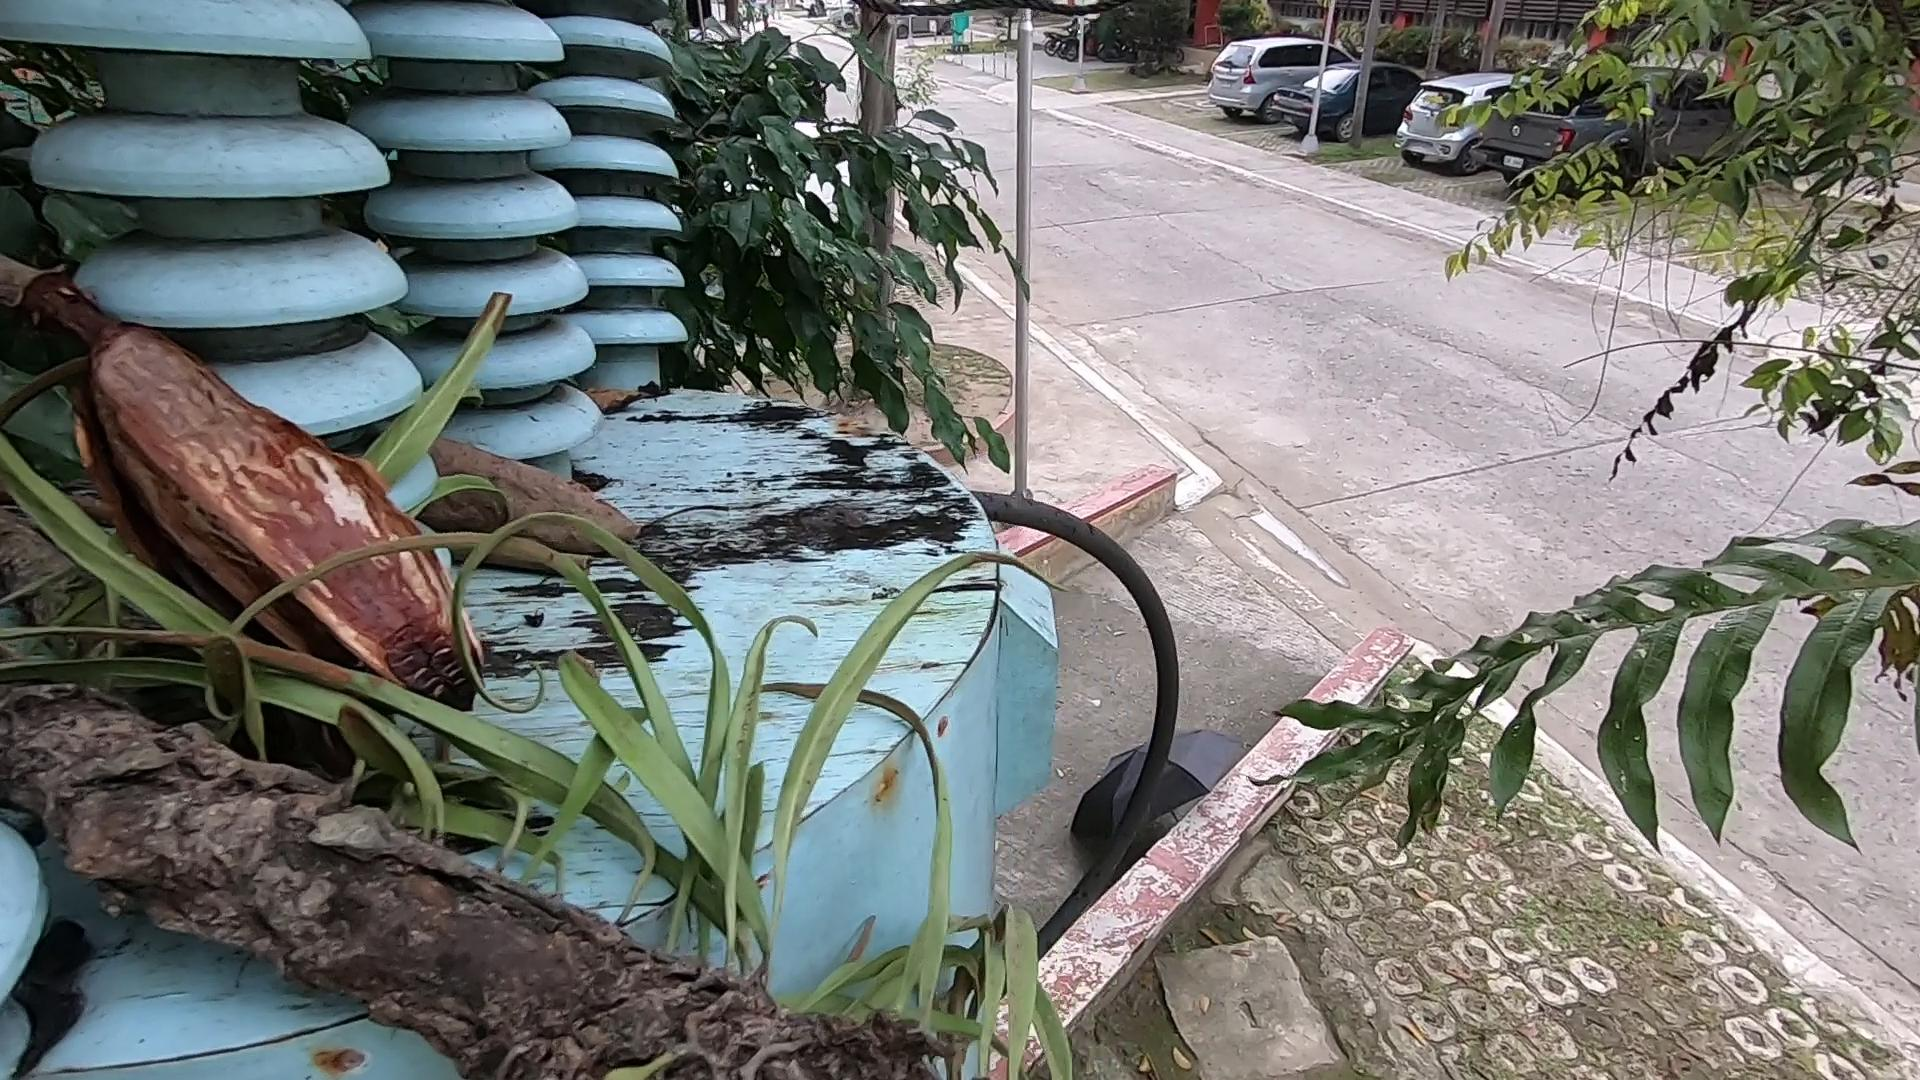branch with leaves: (1, 576, 1025, 1080)
leaf: (603, 369, 647, 433)
mahogany fruit: (108, 338, 444, 773), (392, 328, 683, 603)
tree branch: (401, 502, 591, 585), (12, 224, 65, 487)
